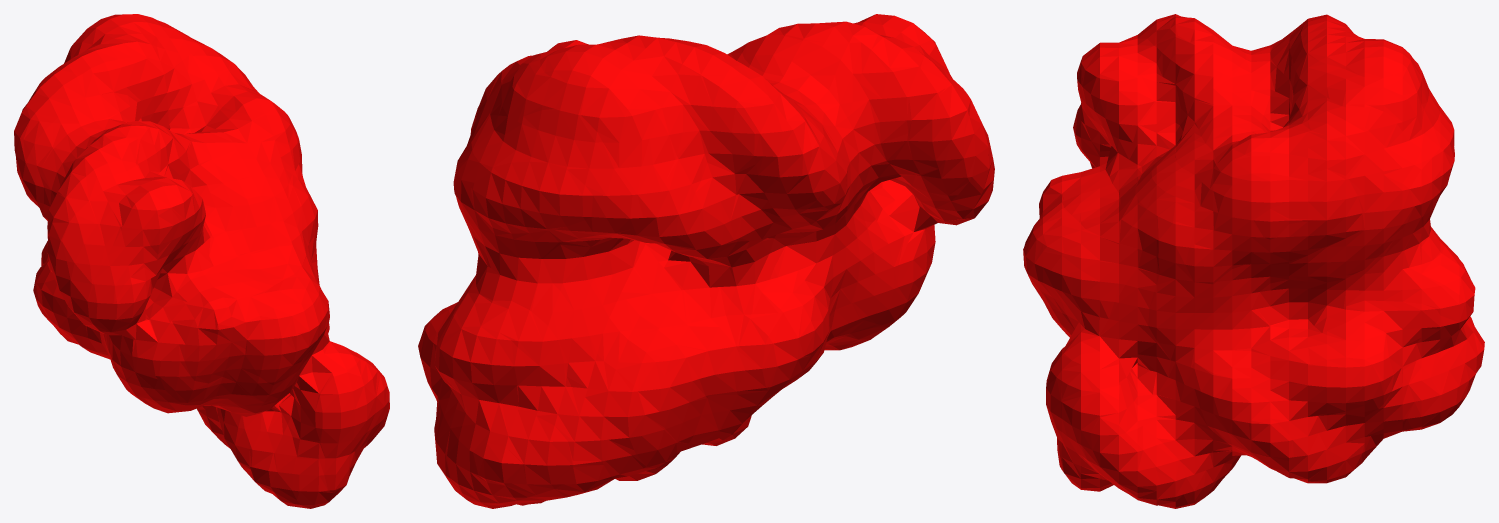
Rendered from ihfB_coarse.dae.
3 views of the same model, side by side, from view 1: azimuth 30°, elevation 25°; view 2: azimuth 150°, elevation 25°; view 3: azimuth 270°, elevation 25° (orthographic). The views are drawn at different scales.
Visible parts, largest first — view 1: ihfB; view 2: ihfB; view 3: ihfB.
Part boxes in pixels (x1,y1,x2,y2): ihfB: (14, 14, 389, 508); ihfB: (418, 14, 994, 508); ihfB: (1023, 14, 1484, 508).
Bounding box in the file's own units: 54.93 × 63.95 × 63.71.
